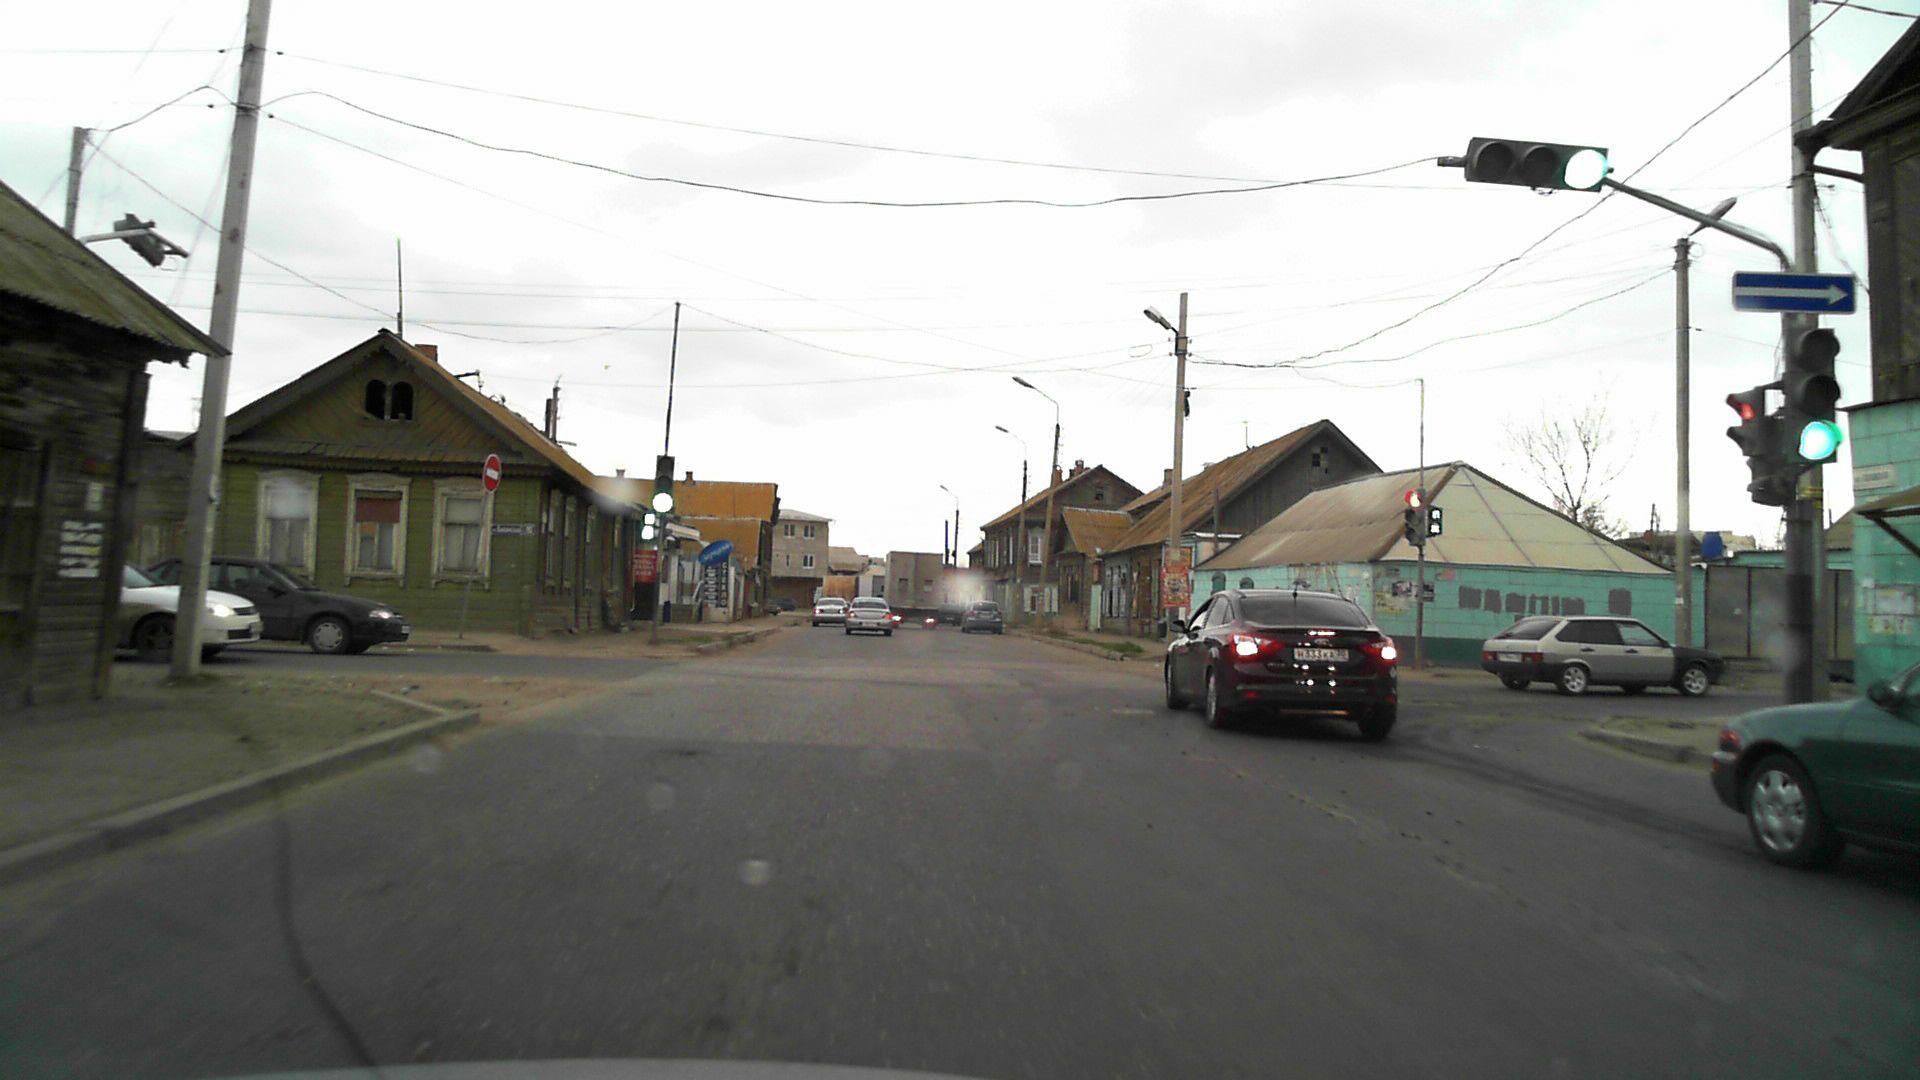One-Way Traffic: (1731, 272, 1855, 313)
